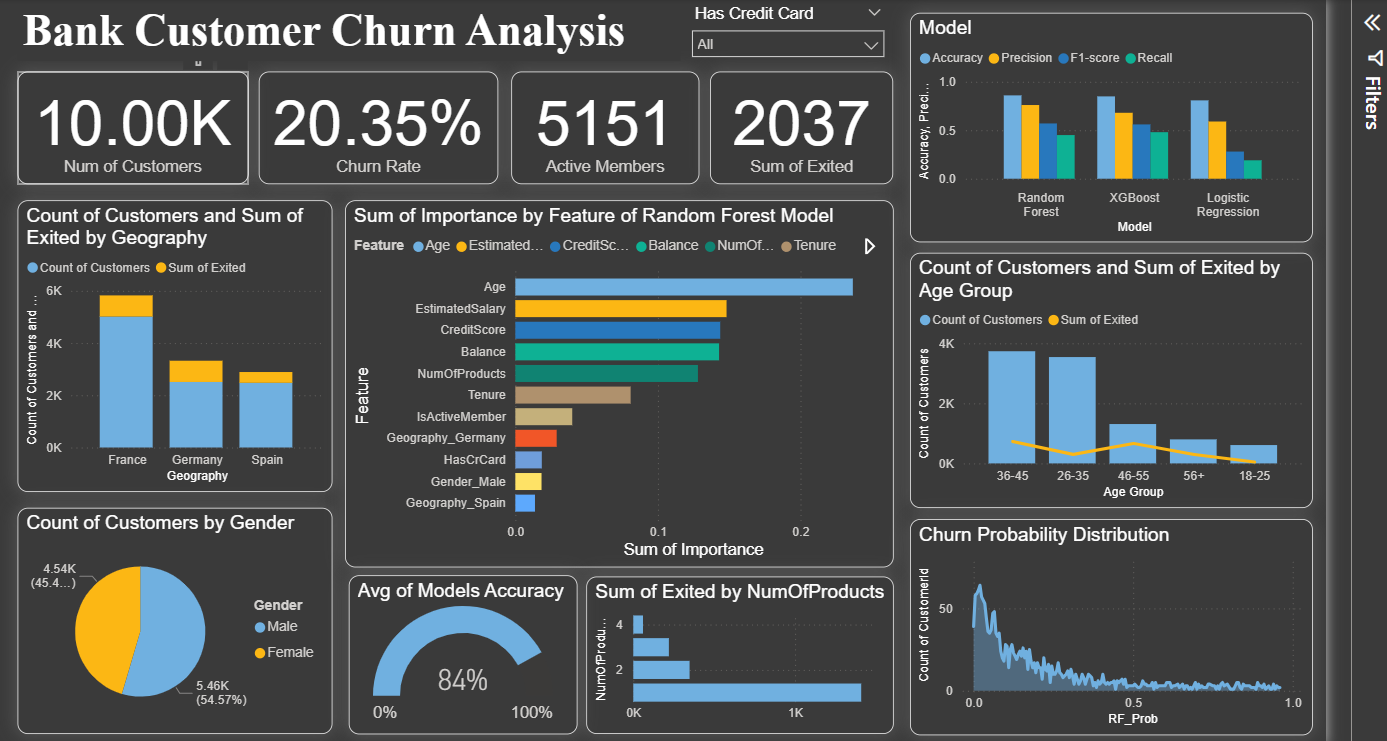

The page's visual inventory and layout, read from the dashboard file:
{"tool":"powerbi","page":{"name":"Page 1","canvas":[1280,720],"ordinal":0},"visuals":[{"type":"columnChart","fields":{"Category":["Churn_Modelling.Geography"],"Y":["CountNonNull(Churn_Modelling.CustomerId)","Sum(Churn_Modelling.Exited)"]},"box":[17.1,194.3,304.3,281.4],"z":0},{"type":"pieChart","fields":{"Category":["Churn_Modelling.Gender"],"Y":["CountNonNull(Churn_Modelling.CustomerId)"]},"box":[17.1,491.4,304.3,218.6],"z":1000},{"type":"card","fields":{"Values":["Measures_table.Churn Rate"]},"box":[250,70,231.4,108.6],"z":2000},{"type":"lineStackedColumnComboChart","title":"Count of Customers and Sum of Exited by Age Group","fields":{"Y":["CountNonNull(Churn_Modelling.CustomerId)"],"Y2":["Sum(Churn_Modelling.Exited)"],"Category":["Churn_Modelling.Age Group"]},"box":[878.3,244.9,388.5,246.1],"z":3000},{"type":"barChart","title":"Sum of Importance by Feature of Random Forest Model","fields":{"Category":["rf_feature_importance.Feature"],"Y":["Sum(rf_feature_importance.Importance)"],"Series":["rf_feature_importance.Feature"]},"box":[333,194.2,529.6,354.7],"z":4000},{"type":"stackedAreaChart","title":"Churn Probability Distribution","fields":{"Category":["churn_predictions.RF_Prob"],"Y":["CountNonNull(churn_predictions.CustomerId)"]},"box":[878.6,501.4,388.6,208.6],"z":5000},{"type":"clusteredBarChart","fields":{"Category":["Churn_Modelling.NumOfProducts"],"Y":["Sum(Churn_Modelling.Exited)"]},"box":[565.8,557.4,296.8,152],"z":6000},{"type":"slicer","fields":{"Values":["Churn_Modelling.HasCrCard"]},"box":[657.1,0,205.7,72.9],"z":7000},{"type":"clusteredColumnChart","title":"Model","fields":{"Category":["Model Metrics.Model"],"Y":["Avg(Model Metrics.Accuracy)","Avg(Model Metrics.Precision)","Avg(Model Metrics.F1-score)","Avg(Model Metrics.Recall)"]},"box":[878.3,13.3,388.5,222],"z":8000},{"type":"gauge","fields":{"Y":["Avg(Model Metrics.Accuracy)1"]},"box":[336.6,556.2,220.8,153.2],"z":9000},{"type":"card","fields":{"Values":["CountNonNull(Churn_Modelling.CustomerId)"]},"box":[17.1,70,222.9,108.6],"z":10000},{"type":"card","fields":{"Values":["Sum(Churn_Modelling.IsActiveMember)"]},"box":[492.9,70,181.4,108.6],"z":11000},{"type":"card","fields":{"Values":["Sum(Churn_Modelling.Exited)"]},"box":[685.7,70,177.1,108.6],"z":12000},{"type":"textbox","box":[17.1,0,640,60],"z":13000}]}

Visuals, with their boxes in screenshot pixels (x1, y1, x2, y2):
columnChart - Churn_Modelling.Geography x CountNonNull(Churn_Modelling.CustomerId): <region>89, 230, 387, 505</region>
pieChart - Churn_Modelling.Gender x CountNonNull(Churn_Modelling.CustomerId): <region>89, 520, 387, 734</region>
card - Measures_table.Churn Rate: <region>317, 108, 543, 214</region>
"Count of Customers and Sum of Exited by Age Group" lineStackedColumnComboChart: <region>931, 279, 1311, 520</region>
"Sum of Importance by Feature of Random Forest Model" barChart: <region>398, 230, 916, 577</region>
"Churn Probability Distribution" stackedAreaChart: <region>932, 530, 1312, 734</region>
clusteredBarChart - Churn_Modelling.NumOfProducts x Sum(Churn_Modelling.Exited): <region>626, 585, 916, 734</region>
slicer - Churn_Modelling.HasCrCard: <region>715, 40, 916, 111</region>
"Model" clusteredColumnChart: <region>931, 53, 1311, 270</region>
gauge - Avg(Model Metrics.Accuracy)1: <region>402, 584, 618, 734</region>
card - CountNonNull(Churn_Modelling.CustomerId): <region>89, 108, 307, 214</region>
card - Sum(Churn_Modelling.IsActiveMember): <region>554, 108, 732, 214</region>
card - Sum(Churn_Modelling.Exited): <region>743, 108, 916, 214</region>
textbox: <region>89, 40, 715, 98</region>
